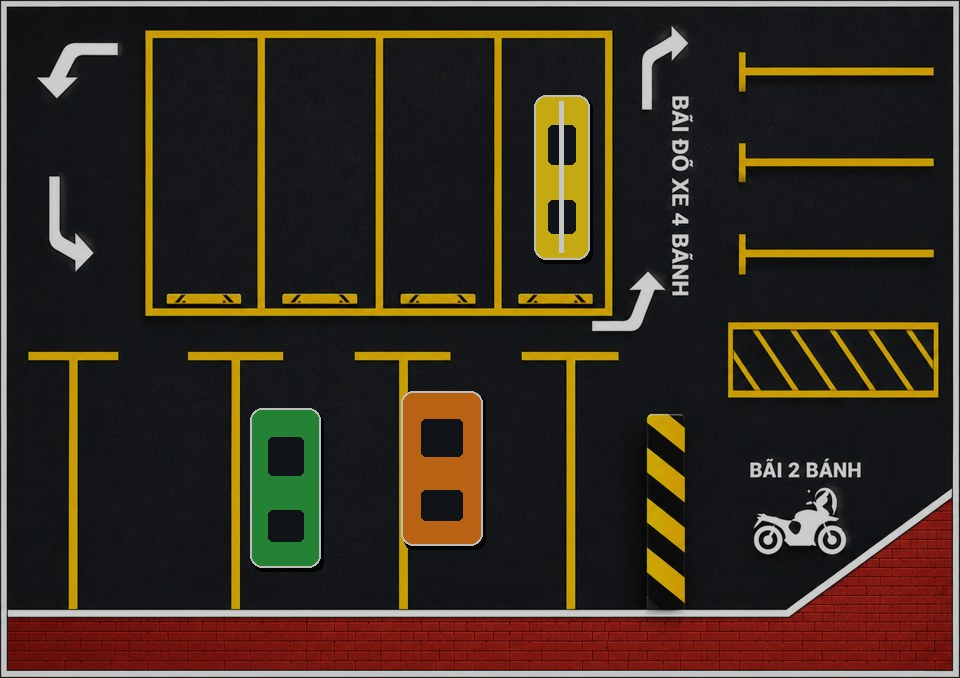empty: (35, 351, 199, 598), (524, 351, 672, 598), (148, 35, 267, 309), (267, 35, 386, 309), (386, 35, 505, 309)
occupied: (360, 351, 518, 598), (201, 351, 357, 598), (505, 35, 624, 309)
